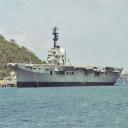Portanaves: (8, 26, 126, 90)
